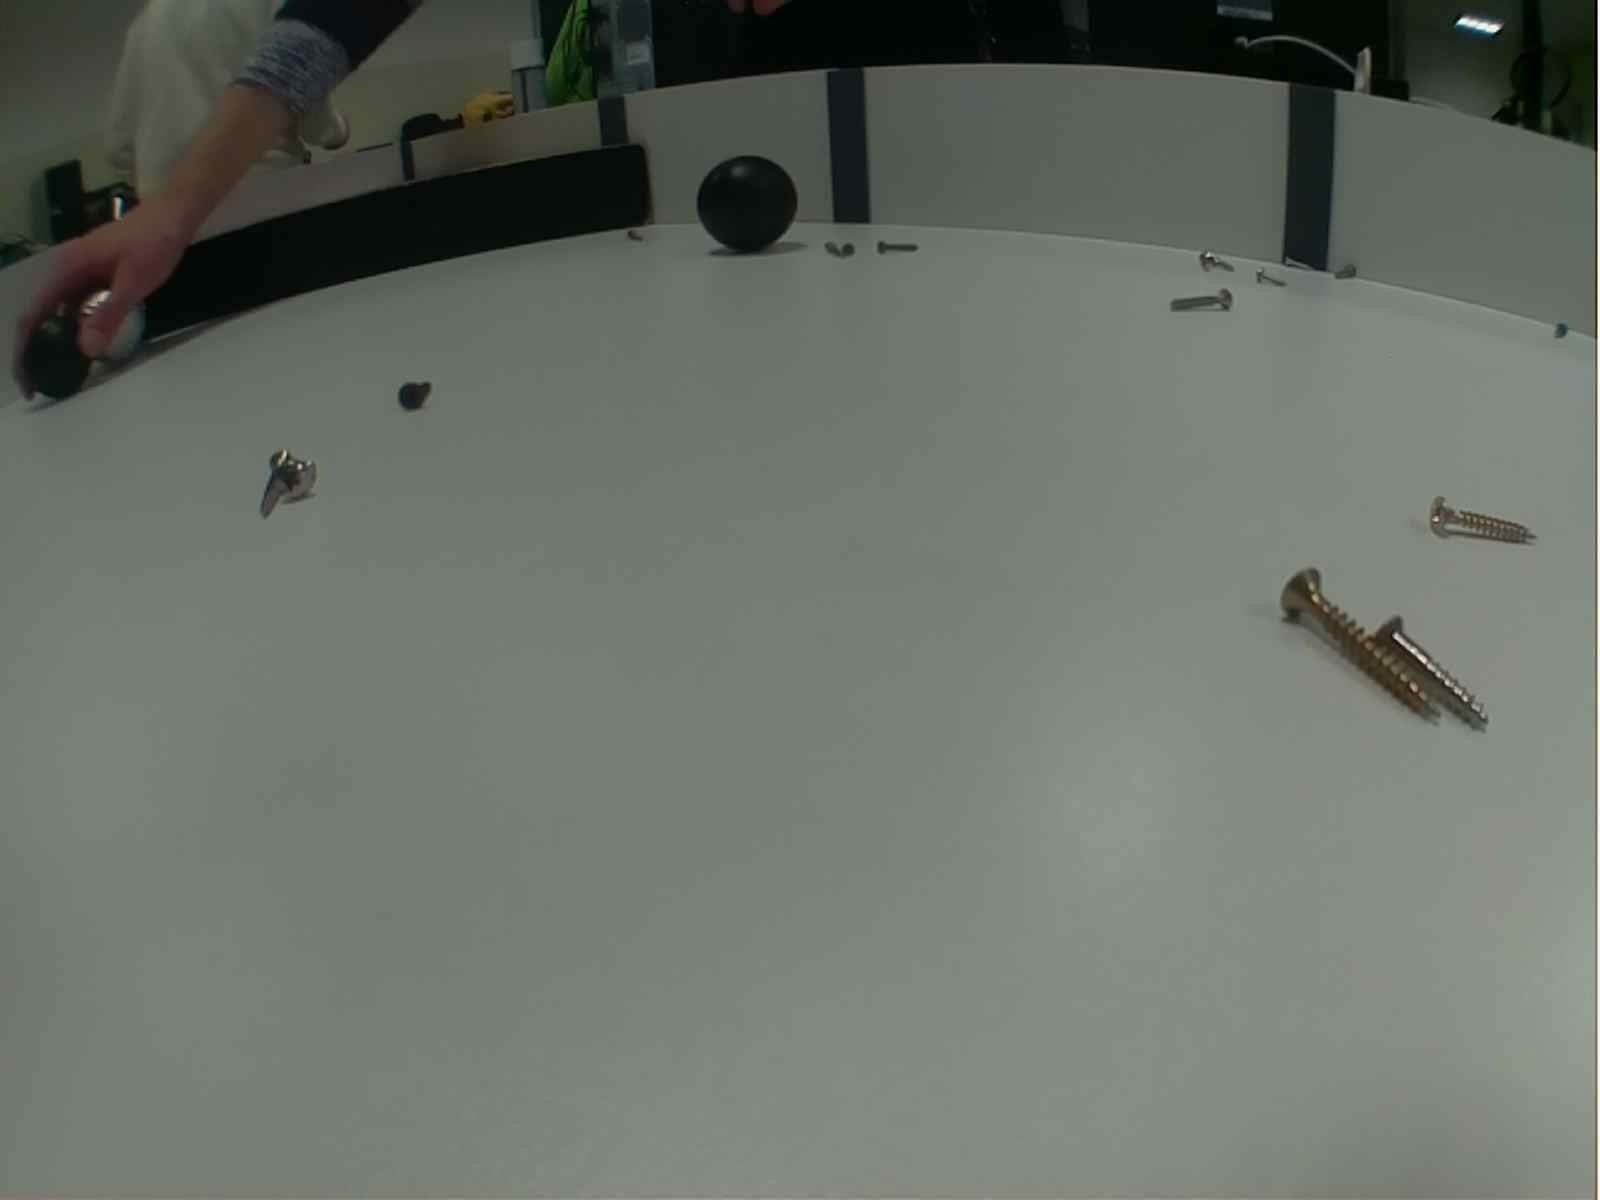bianca: (79, 287, 146, 362)
nera: (693, 153, 800, 256)
